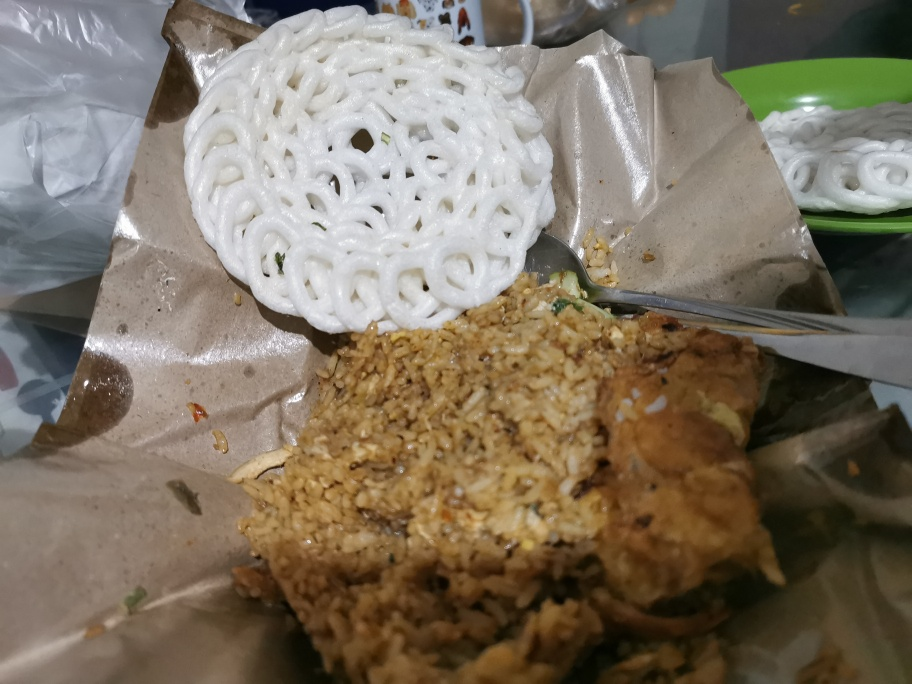kerupuk: (185, 2, 560, 332)
nasi goreng: (274, 329, 771, 684)
